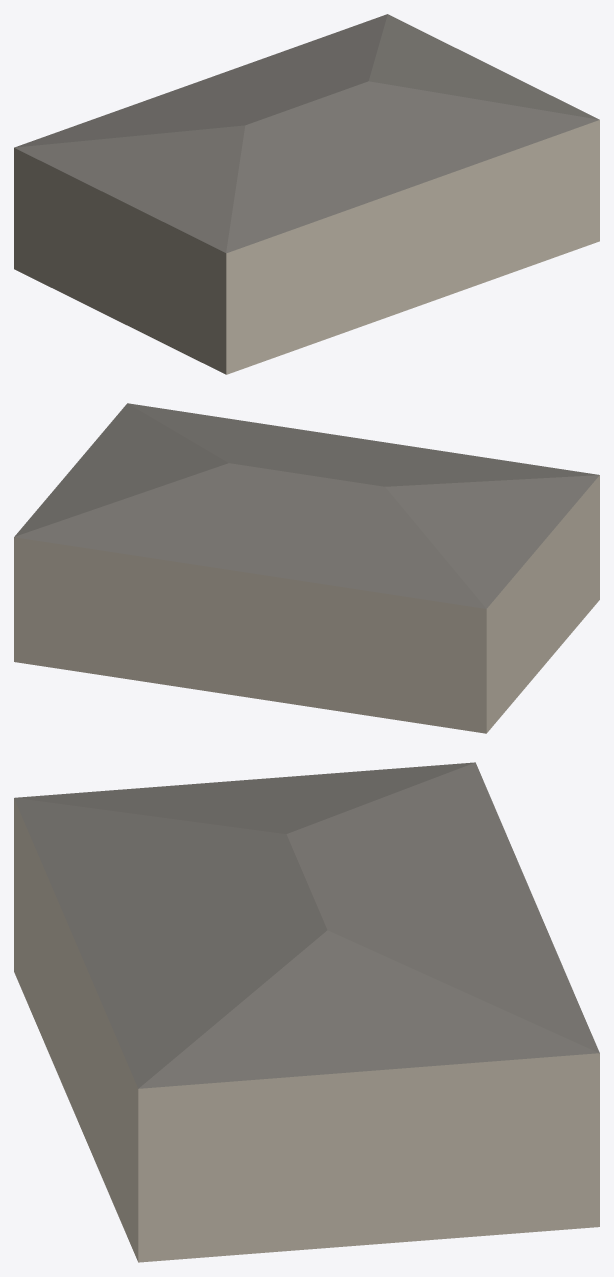
The picture shows the model from 3 angles, top to bottom: view 1: azimuth 30°, elevation 25°; view 2: azimuth 150°, elevation 25°; view 3: azimuth 270°, elevation 25°; orthographic projection. The views are drawn at different scales.
Parts seen in each view (by area): view 1: HP-w428202599; view 2: HP-w428202599; view 3: HP-w428202599.
Part boxes in pixels (box(x1,y1,x2,y2)): HP-w428202599: box(14, 14, 599, 374); HP-w428202599: box(14, 403, 599, 733); HP-w428202599: box(14, 762, 599, 1262).
Size of the model in its own units: 48.37 by 15 by 36.69.
